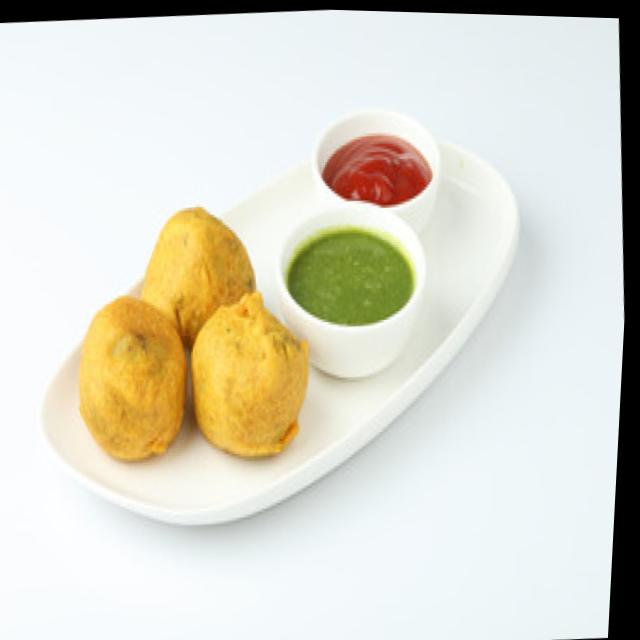BONDA: (77, 206, 306, 457)
GREEN CHUTNEY: (286, 229, 411, 323)
SAUCE: (320, 134, 431, 201)
